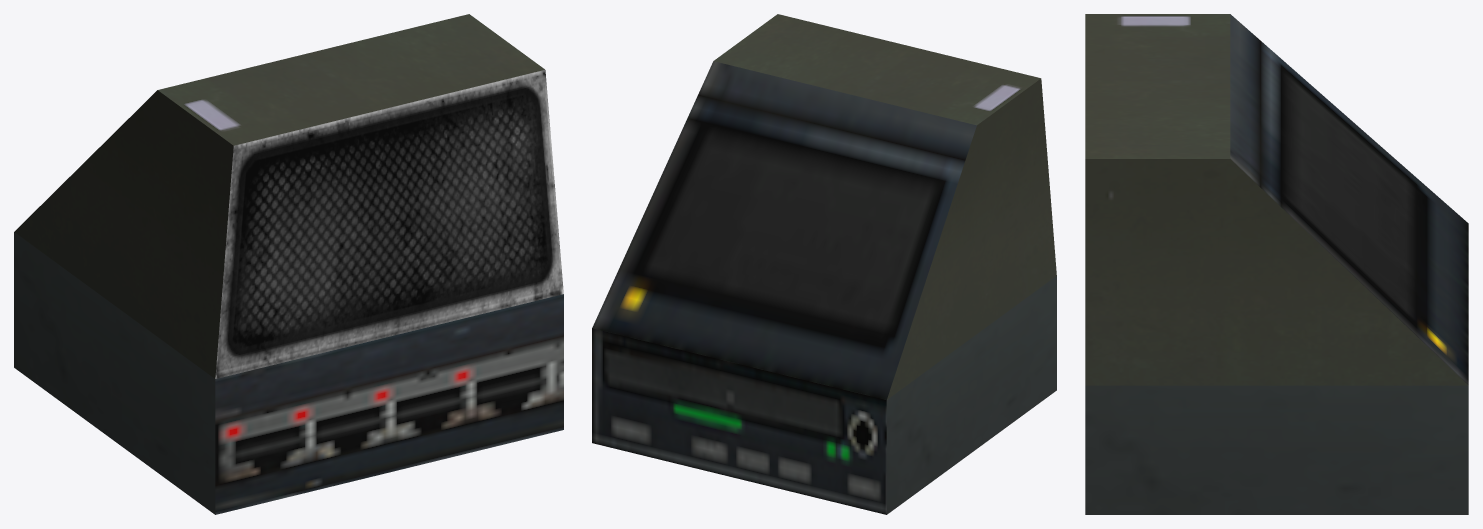
File: Controller_02.fbx
3 views of the same model, side by side, from view 1: azimuth 30°, elevation 25°; view 2: azimuth 150°, elevation 25°; view 3: azimuth 270°, elevation 25° (orthographic). The views are drawn at different scales.
Parts seen in each view (by area): view 1: Controller_02; view 2: Controller_02; view 3: Controller_02.
Part boxes in pixels (x1,y1,x2,y2): Controller_02: (14,14,563,514); Controller_02: (592,14,1056,514); Controller_02: (1085,14,1468,514).
Bounding box in the file's own units: 30.12 × 30.12 × 30.12.
